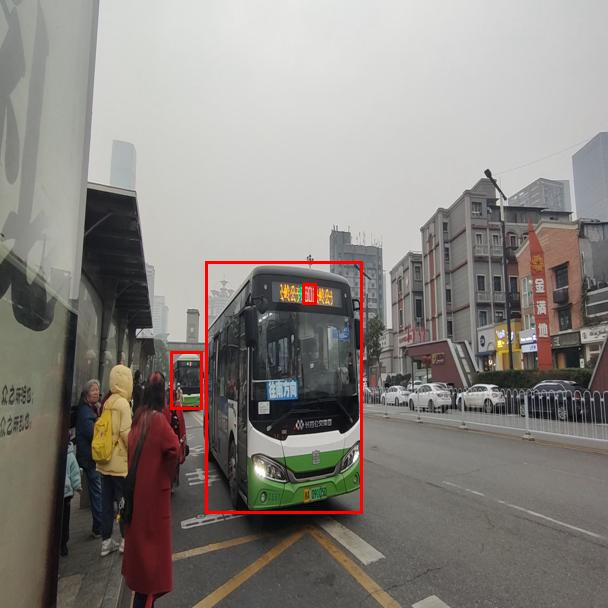bus: (205, 261, 362, 513), (170, 351, 202, 409)
screen: (302, 283, 316, 304)
